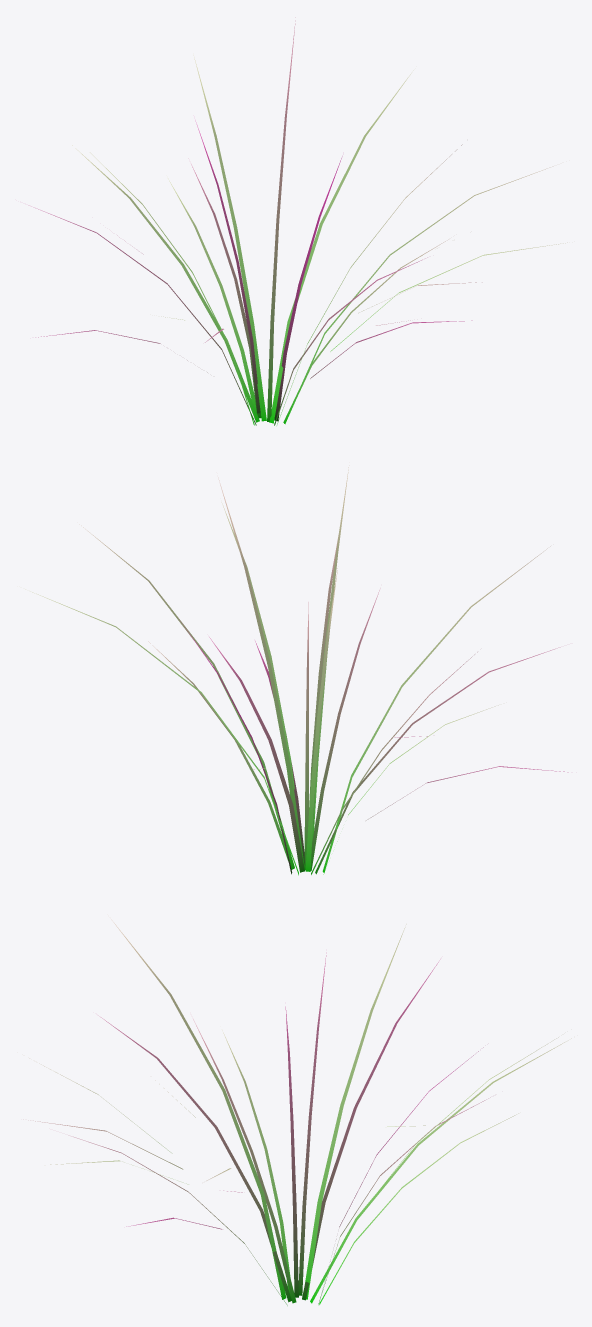
The model's file is grass_b.glb.
3 views of the same model, one above another, from view 1: azimuth 30°, elevation 25°; view 2: azimuth 150°, elevation 25°; view 3: azimuth 270°, elevation 25° (orthographic). The views are drawn at different scales.
Visible parts, largest first — view 1: Grass_B; view 2: Grass_B; view 3: Grass_B.
Boxes of the visible parts, x1,y1,x2,y2 form: Grass_B: [28, 17, 567, 425]; Grass_B: [25, 465, 568, 875]; Grass_B: [23, 919, 571, 1305].
Size of the model in its own units: 1.47 by 0.9664 by 1.27.
